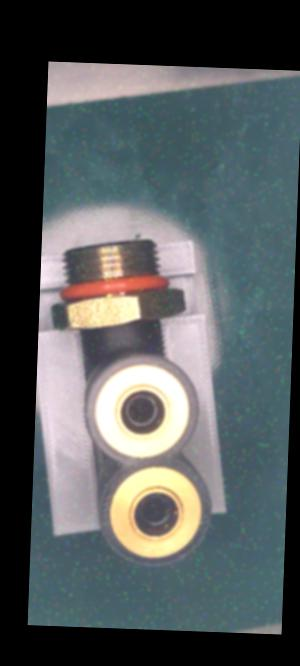white mark: (118, 323, 128, 333)
